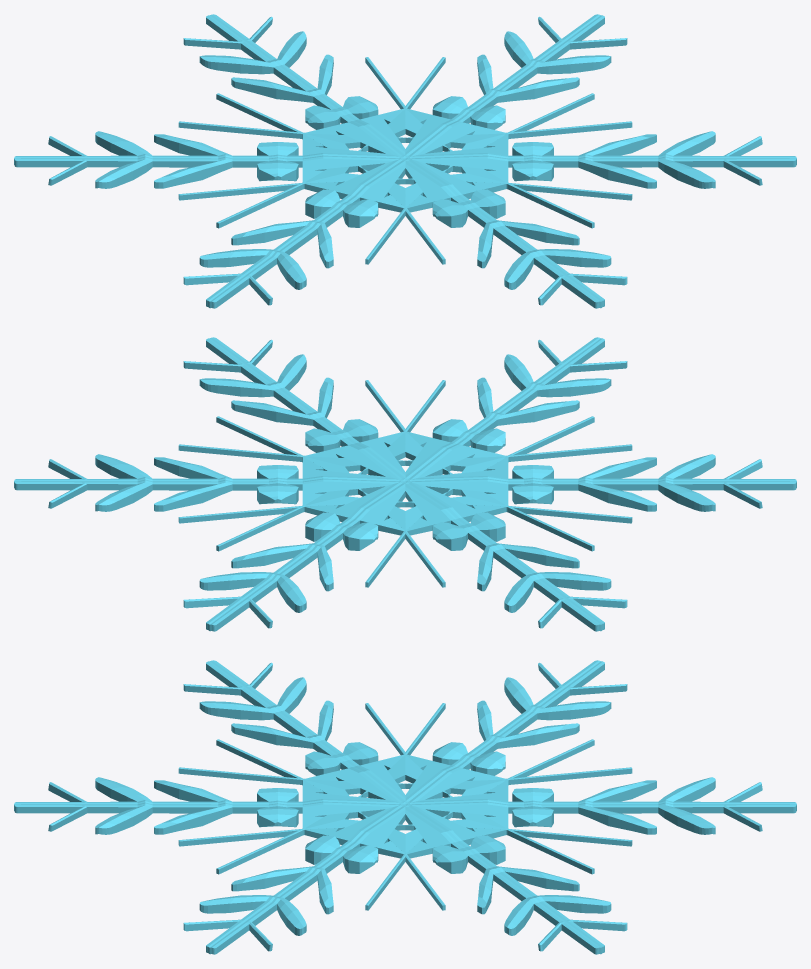
Rendered from Fulg5.obj.
3 views of the same model, one above another, from view 1: azimuth 30°, elevation 25°; view 2: azimuth 150°, elevation 25°; view 3: azimuth 270°, elevation 25° (orthographic).
Parts seen in each view (by area): view 1: Plane; view 2: Plane; view 3: Plane.
Part boxes in pixels (bbox=[...]): Plane: bbox=[14, 14, 796, 308]; Plane: bbox=[14, 337, 796, 631]; Plane: bbox=[14, 660, 796, 954].
Size of the model in its own units: 1.03 by 0.0239 by 1.18.
